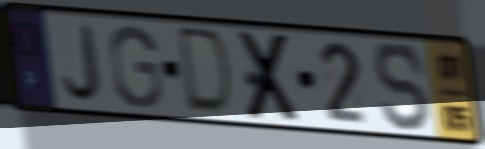2: (318, 40, 369, 127)
D: (178, 23, 236, 120)
G: (107, 23, 165, 111)
J: (61, 22, 103, 104)
S: (372, 39, 433, 134)
X: (236, 29, 304, 124)
